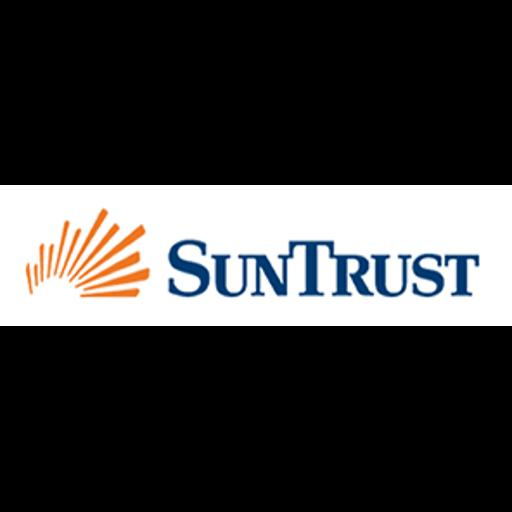SunTrust Bank: (0, 185, 512, 326)
